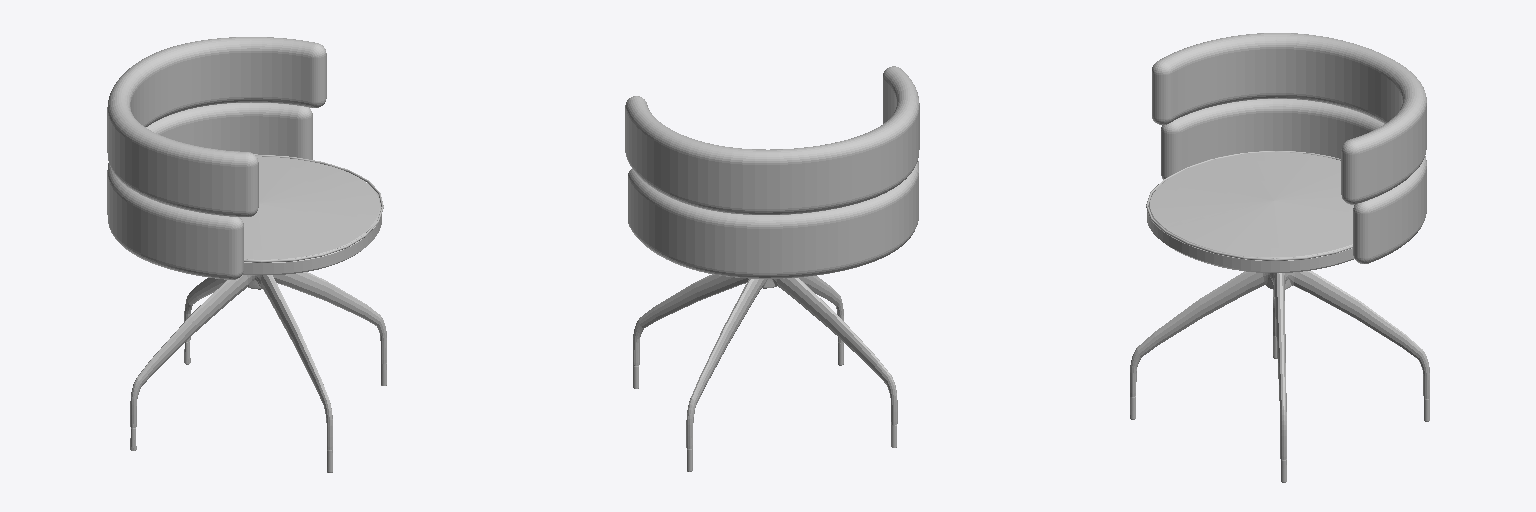
Rendered from oben sandalye.obj.
3 renders of one model, left to right at view 1: azimuth 30°, elevation 25°; view 2: azimuth 150°, elevation 25°; view 3: azimuth 270°, elevation 25°, orthographic.
Visible parts, largest first — view 1: ChamferBox003, ChamferBox002, Spindle001, obj_04, Loft001; view 2: ChamferBox003, ChamferBox002, obj_04; view 3: ChamferBox003, Spindle001, ChamferBox002, obj_04, Loft001.
Boxes of the visible parts, box(x1,y1,x2,y2) form: ChamferBox003: box(107, 37, 326, 216); ChamferBox002: box(107, 103, 312, 279); Spindle001: box(240, 156, 381, 274); obj_04: box(130, 272, 386, 472); Loft001: box(244, 154, 383, 262); ChamferBox003: box(625, 66, 919, 214); ChamferBox002: box(628, 161, 918, 278); obj_04: box(633, 274, 897, 471); ChamferBox003: box(1152, 33, 1426, 204); Spindle001: box(1147, 152, 1353, 272); ChamferBox002: box(1161, 99, 1426, 263); obj_04: box(1130, 271, 1429, 482); Loft001: box(1146, 151, 1352, 260).
Bounding box in the file's own units: 568 × 664 × 557.